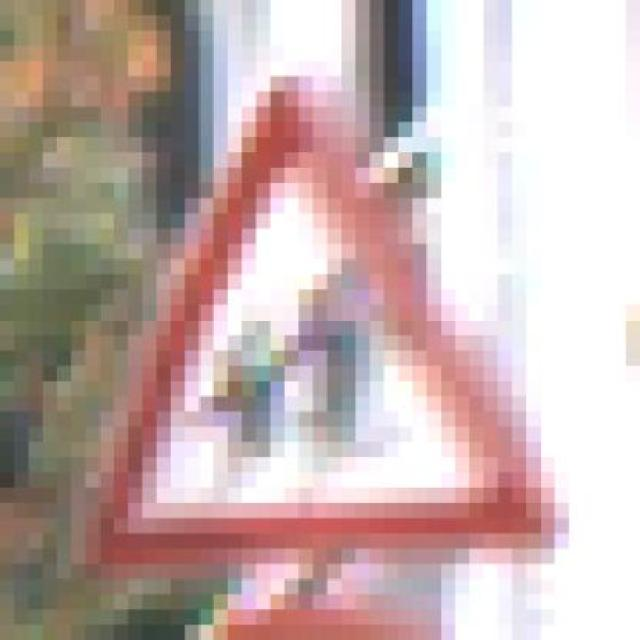Beware of children: (56, 76, 598, 579)
